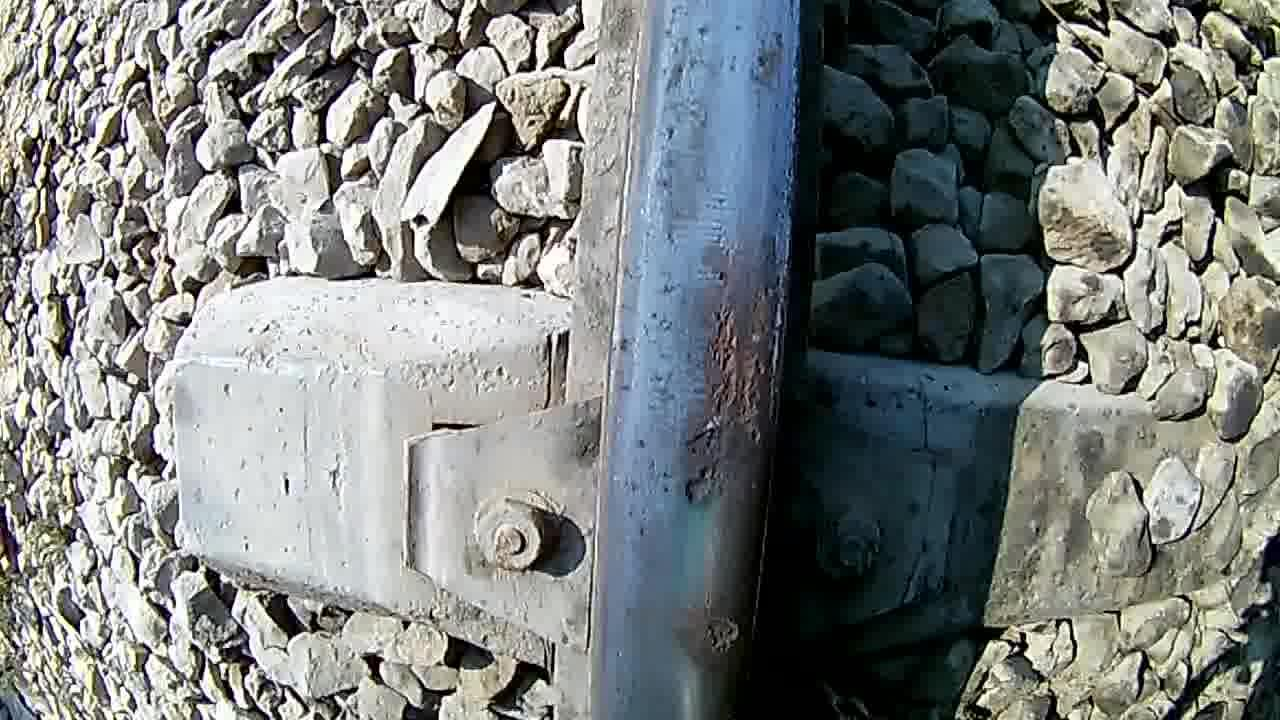crack: (607, 0, 804, 720)
